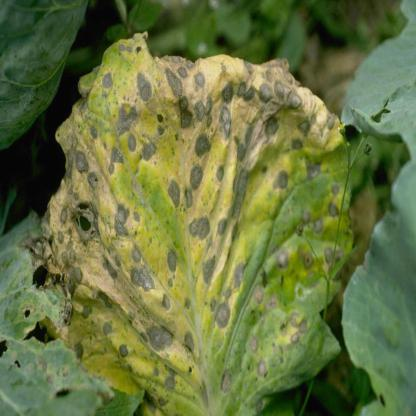Tomato leaf bacterial spot: (40, 37, 361, 416)
